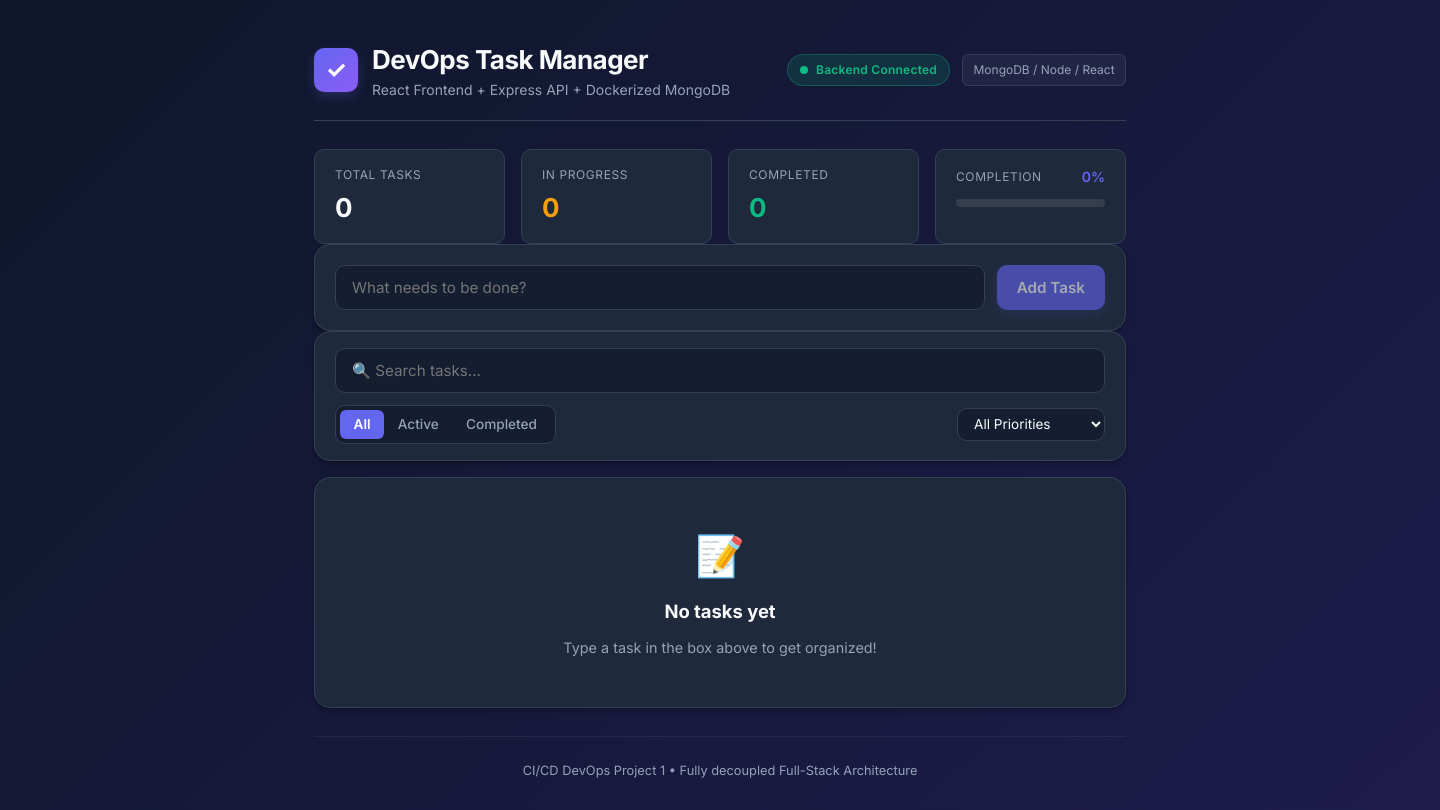
it: App Root Component Integration & Edge Cases › should add new task and show success notification banner
The width and height of the screenshot is (1440, 810).
Expected: the heading "DevOps Task Manager" is shown, [372,44,648,75]
In the field with placeholder "What needs to be done?": x=660, y=288 [335,265,985,310], type "New App Level Task"
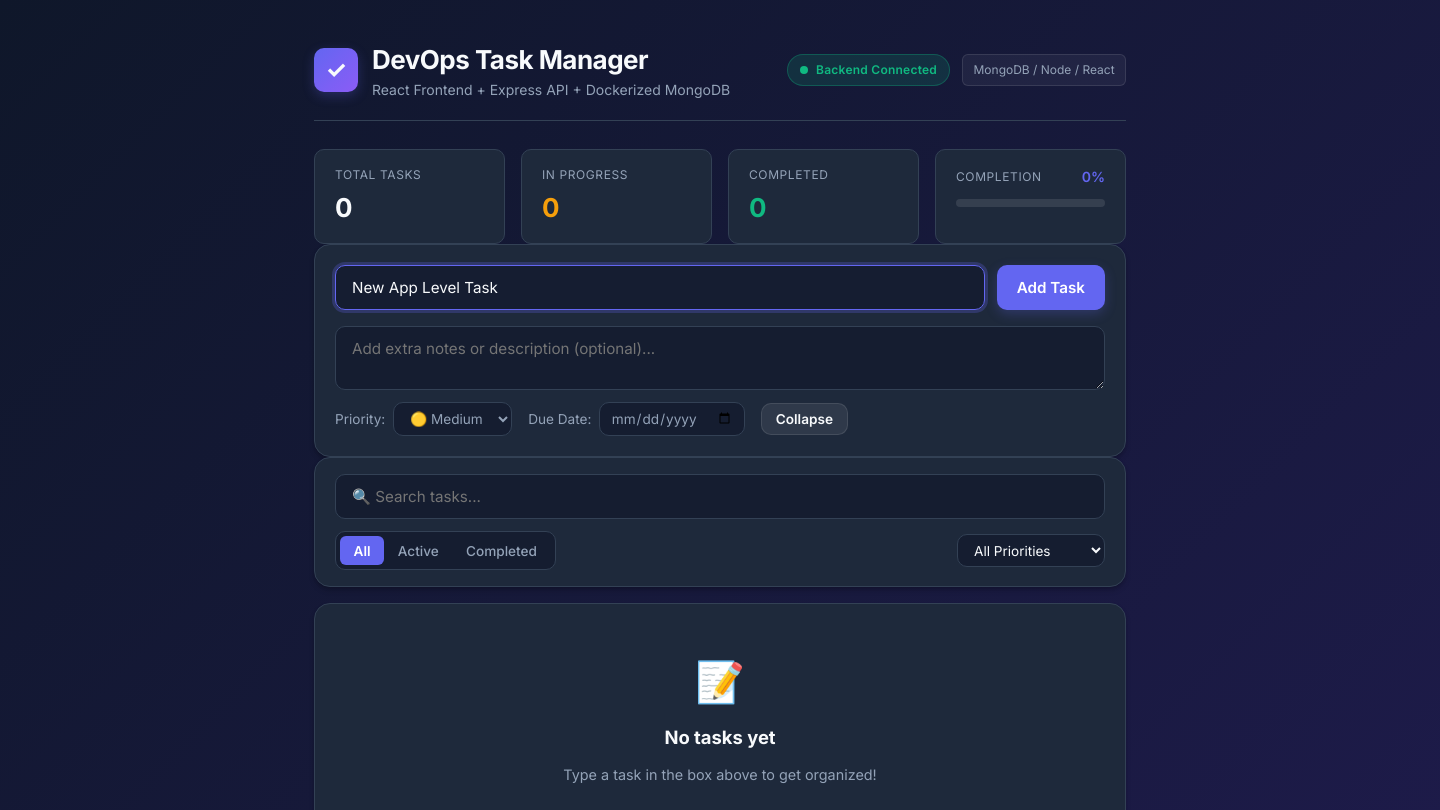
Click the button "Add Task": x=1051, y=288 [997,265,1105,310]
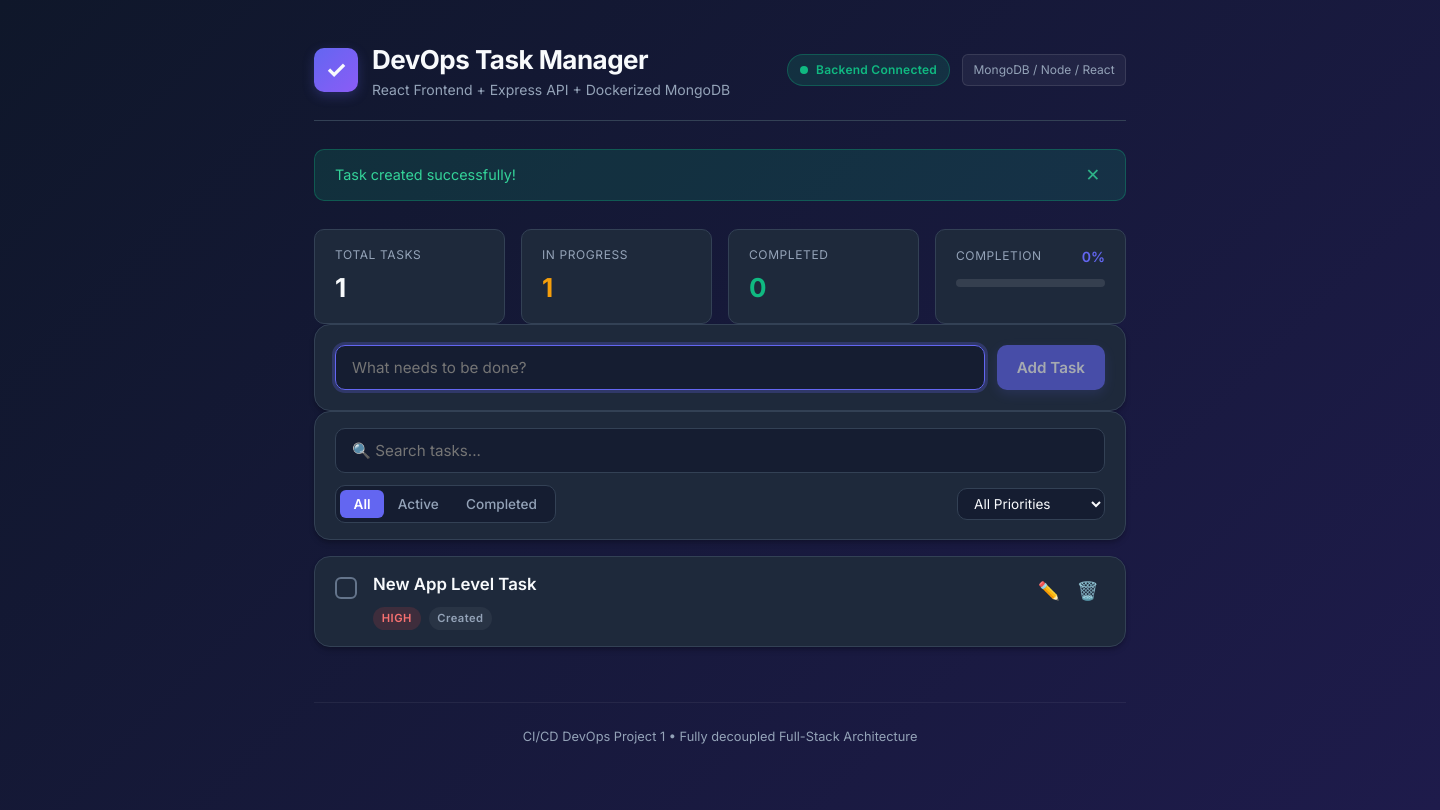
Expected: the text "Task created successfully!" is shown, [335,164,516,186]
Expected: the heading "New App Level Task" is shown, [373,574,536,594]
